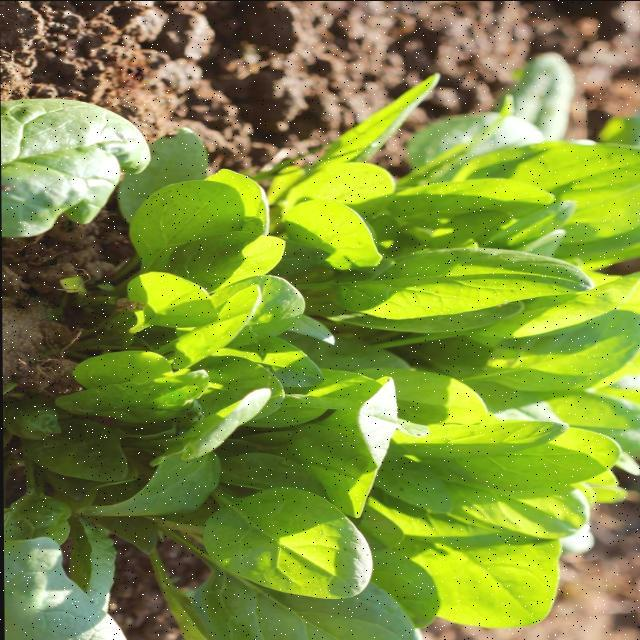Spinach: (0, 42, 640, 640)
